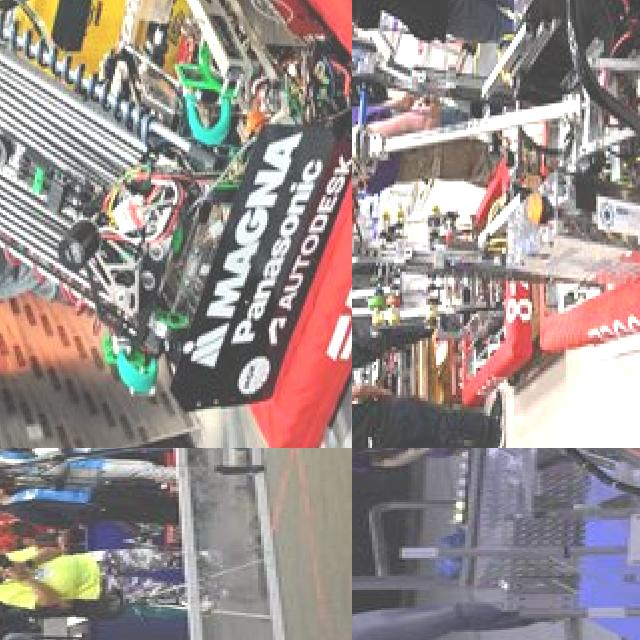FRC-Robots: (0, 0, 352, 448), (352, 448, 640, 633), (352, 141, 525, 432), (525, 0, 640, 364)
